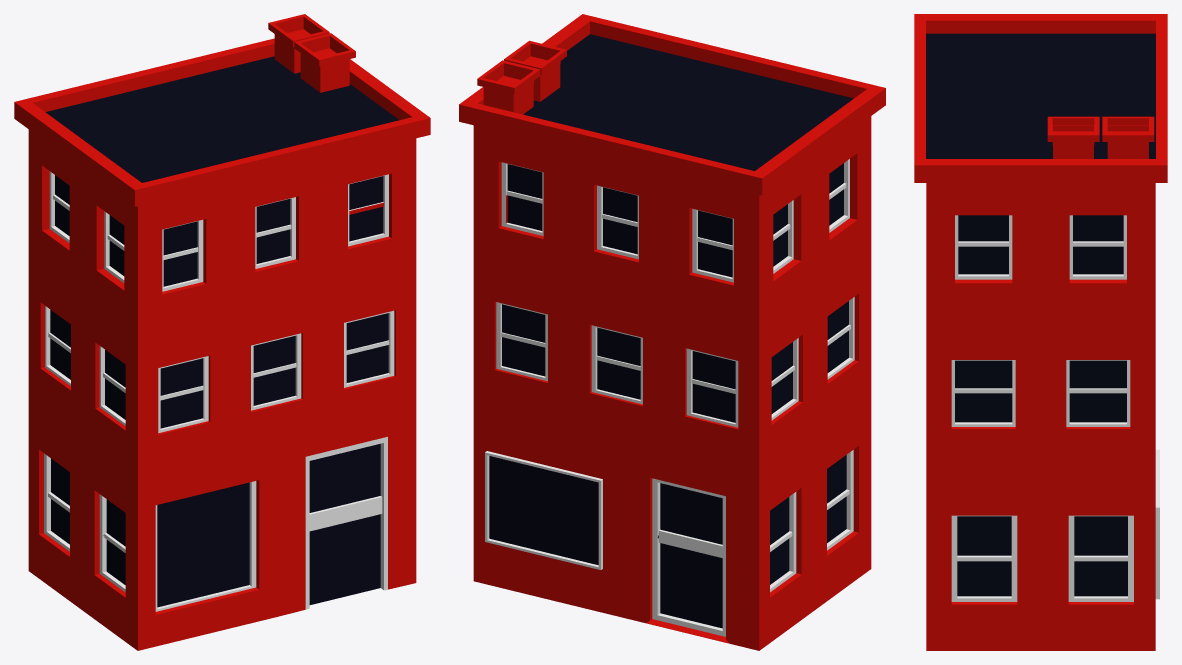
Rendered from Red Building.fbx.
The picture shows the model from 3 angles, left to right: view 1: azimuth 30°, elevation 25°; view 2: azimuth 150°, elevation 25°; view 3: azimuth 270°, elevation 25°; orthographic projection. The views are drawn at different scales.
Parts seen in each view (by area): view 1: Plane.149; view 2: Plane.149; view 3: Plane.149.
Boxes of the visible parts, bbox=[...] form: Plane.149: bbox=[14, 14, 430, 650]; Plane.149: bbox=[459, 14, 885, 650]; Plane.149: bbox=[914, 14, 1167, 650].
Size of the model in its own units: 752 by 1191 by 531.
